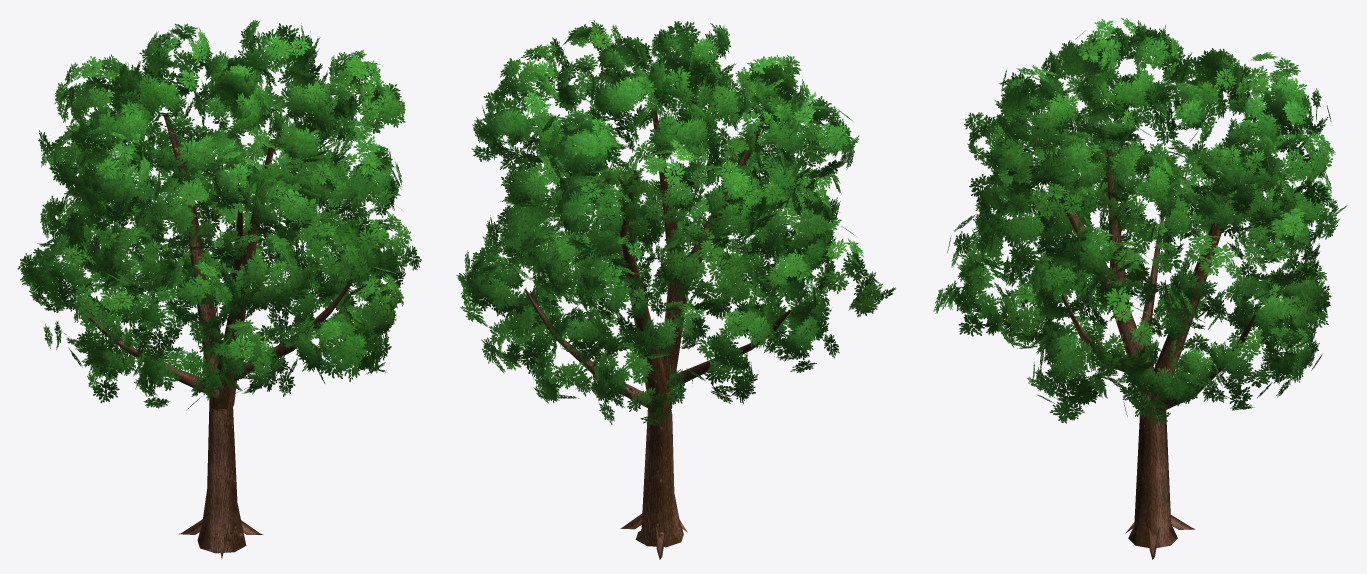
The model's file is mm7_deco_7tree13.glb.
The picture shows the model from 3 angles, left to right: view 1: azimuth 30°, elevation 25°; view 2: azimuth 150°, elevation 25°; view 3: azimuth 270°, elevation 25°; orthographic projection.
Visible parts, largest first — view 1: Tree; view 2: Tree; view 3: Tree.
Boxes of the visible parts, box(x1,y1,x2,y2) form: Tree: box(17, 20, 421, 559); Tree: box(456, 20, 895, 559); Tree: box(933, 18, 1347, 559).
Bounding box in the file's own units: 6.32 × 7.62 × 6.08.
Materials: 2 (2 with a texture image).
